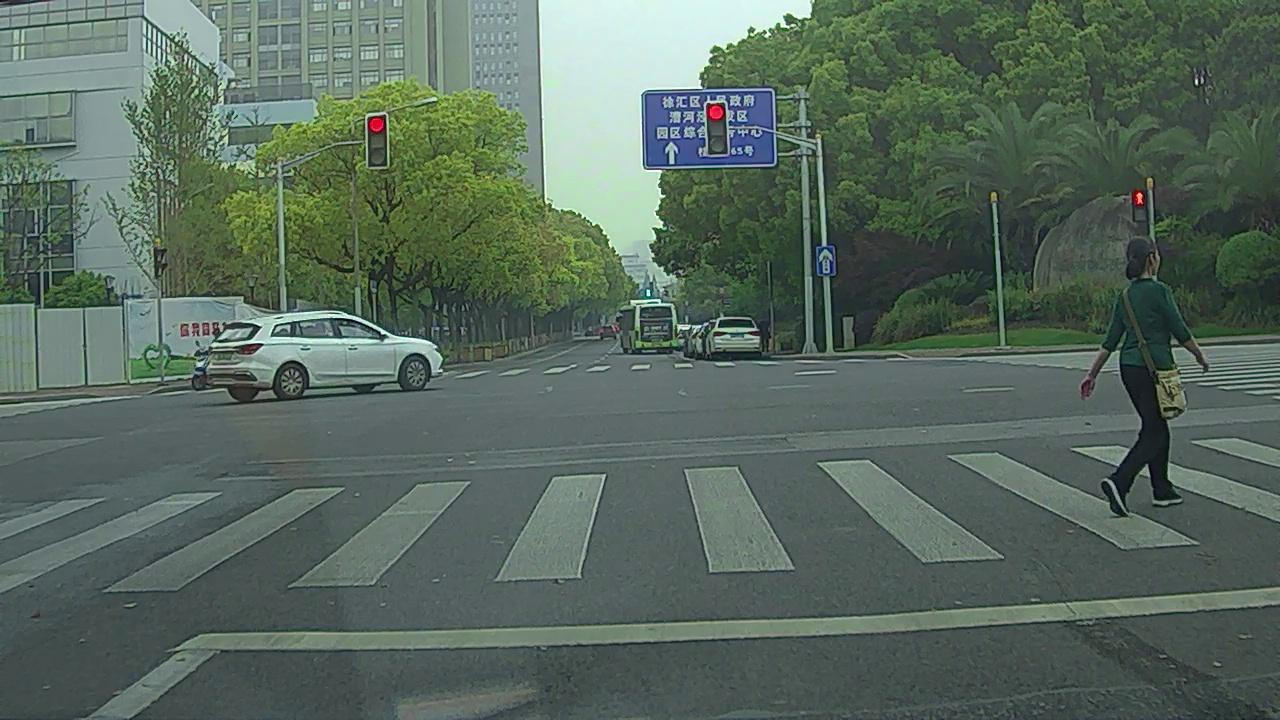traffic_light: (707, 104, 728, 155), (368, 117, 387, 166)
